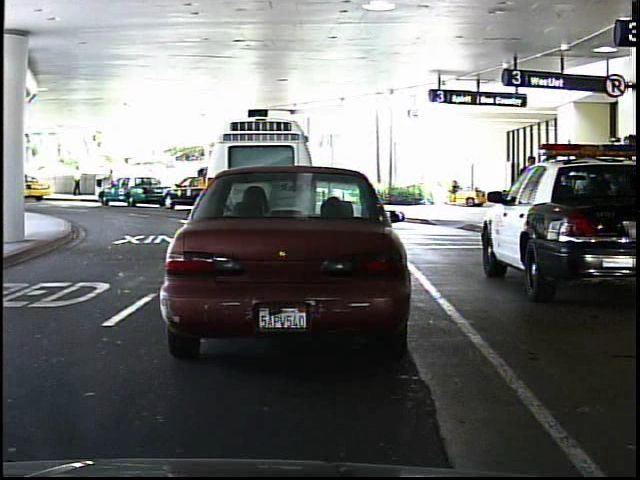person: (513, 150, 542, 225), (612, 128, 640, 178), (102, 166, 120, 201), (72, 162, 86, 199)
